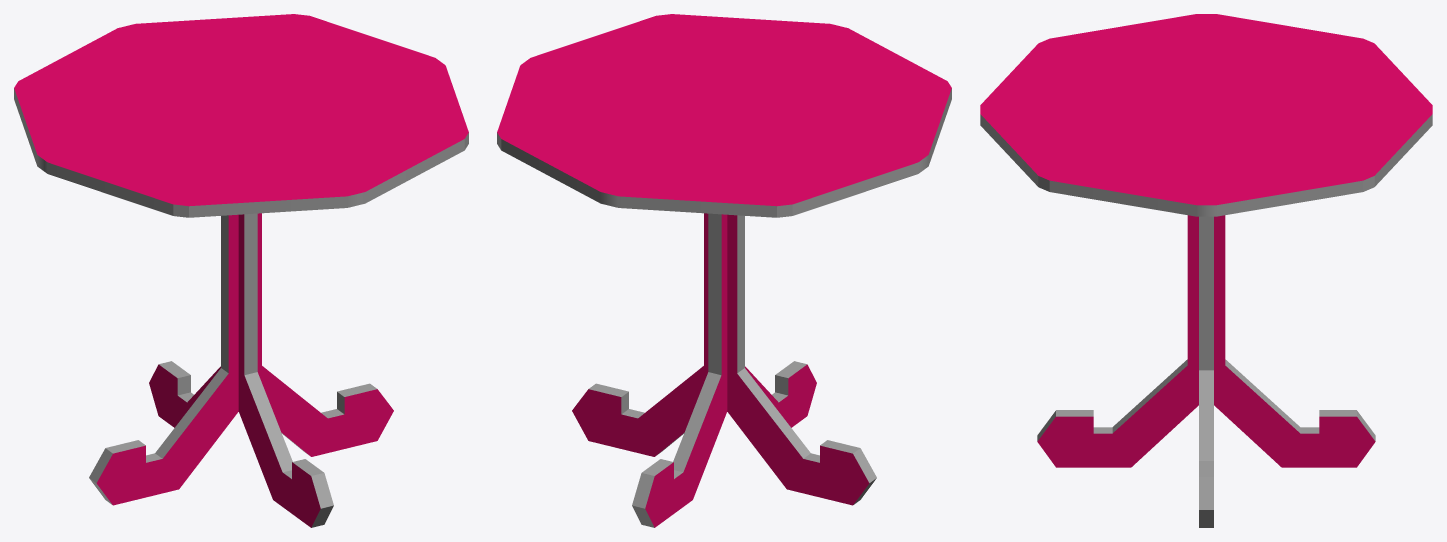
Rendered from PaperRoundTable.fbx.
3 views of the same model, side by side, from view 1: azimuth 30°, elevation 25°; view 2: azimuth 150°, elevation 25°; view 3: azimuth 270°, elevation 25° (orthographic).
Visible parts, largest first — view 1: pPlane57; view 2: pPlane57; view 3: pPlane57.
Part boxes in pixels (bbox=[...]): pPlane57: bbox=[14, 14, 468, 527]; pPlane57: bbox=[497, 14, 951, 527]; pPlane57: bbox=[980, 14, 1432, 527].
Bounding box in the file's own units: 10.88 × 9.41 × 10.88.
